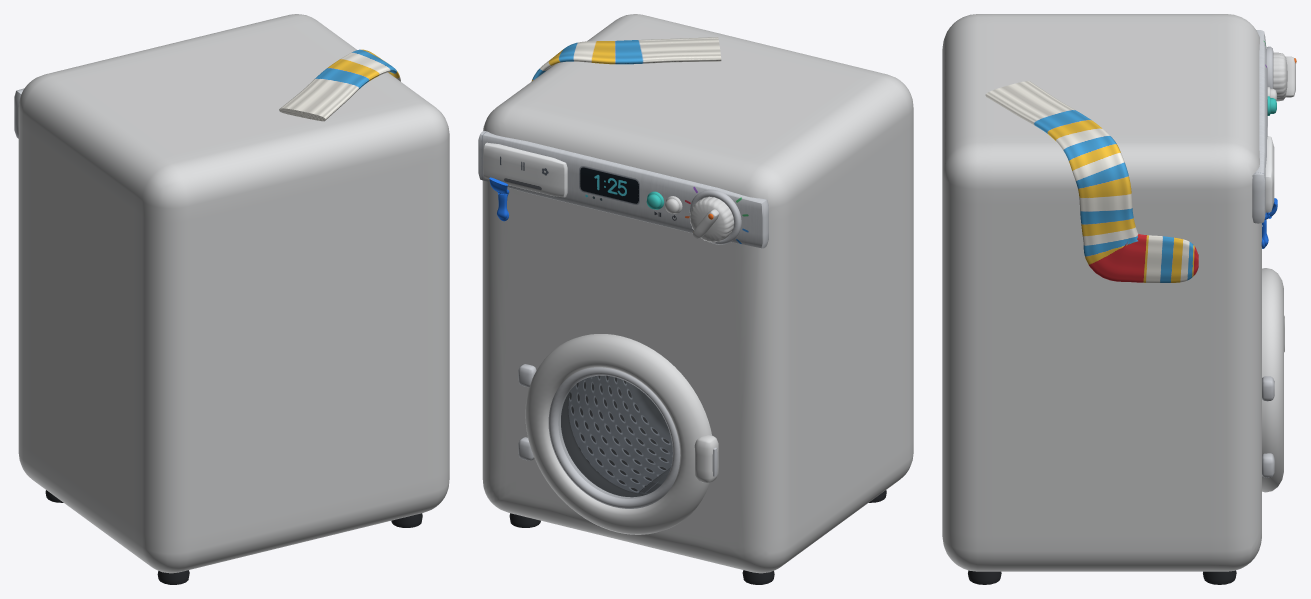
File: washer.glb
3 views of the same model, side by side, from view 1: azimuth 30°, elevation 25°; view 2: azimuth 150°, elevation 25°; view 3: azimuth 270°, elevation 25° (orthographic). The views are drawn at different scales.
Parts seen in each view (by area): view 1: washer; view 2: washer; view 3: washer.
Part boxes in pixels (x1,y1,x2,y2): washer: (14, 14, 449, 584); washer: (478, 14, 913, 584); washer: (942, 14, 1296, 584).
Bounding box in the file's own units: 0.7979 × 1.05 × 0.7535.
Materials: 11 (4 with a texture image).
